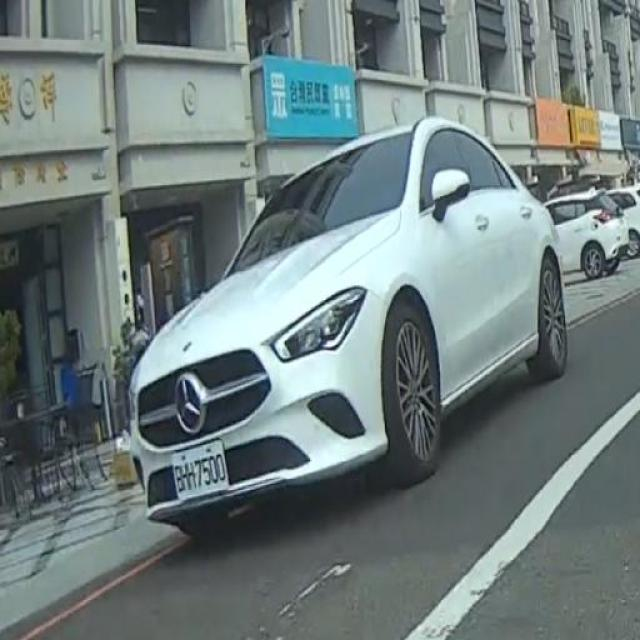Legalparking: (92, 76, 579, 536)
